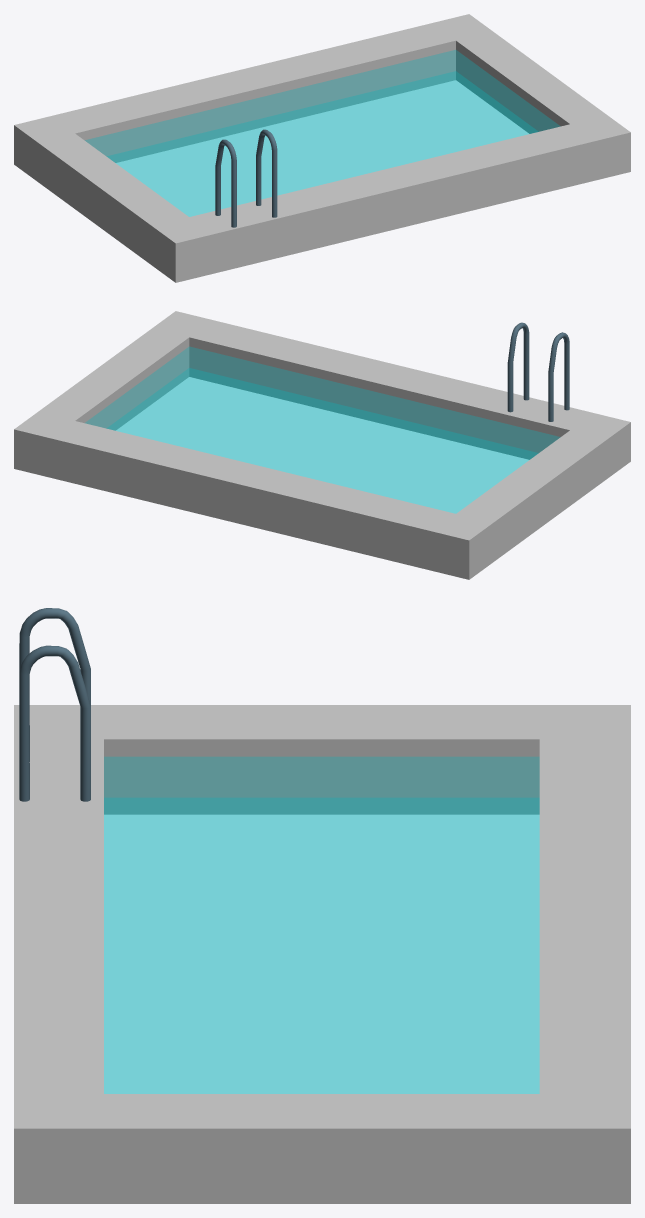
Rendered from Pool.fbx.
3 renders of one model, top to bottom at view 1: azimuth 30°, elevation 25°; view 2: azimuth 150°, elevation 25°; view 3: azimuth 270°, elevation 25°, orthographic. The views are drawn at different scales.
Parts seen in each view (by area): view 1: obj1, obj2, obj3, obj4; view 2: obj1, obj2, obj4, obj3; view 3: obj1, obj2, obj4, obj3.
Part boxes in pixels (x1,y1,x2,y2): obj1: [14, 14, 630, 282]; obj2: [85, 50, 559, 216]; obj3: [215, 139, 236, 227]; obj4: [256, 129, 277, 217]; obj1: [14, 311, 630, 579]; obj2: [85, 347, 559, 513]; obj4: [507, 322, 529, 412]; obj3: [548, 332, 569, 421]; obj1: [14, 705, 630, 1203]; obj2: [104, 757, 539, 1093]; obj4: [19, 645, 90, 801]; obj3: [19, 608, 90, 761].
Size of the model in its own units: 325 by 81.73 by 200.
